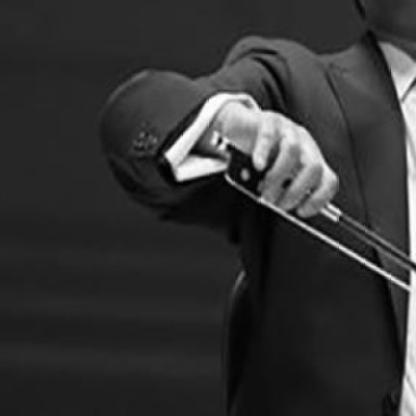good: (245, 86, 349, 230)
